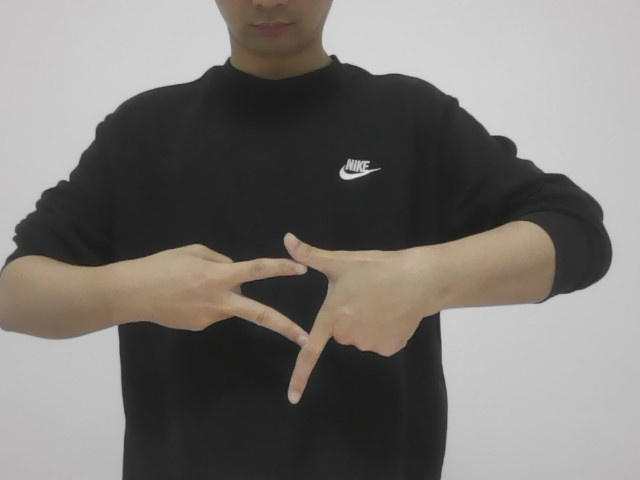introduce: (125, 222, 434, 402)
